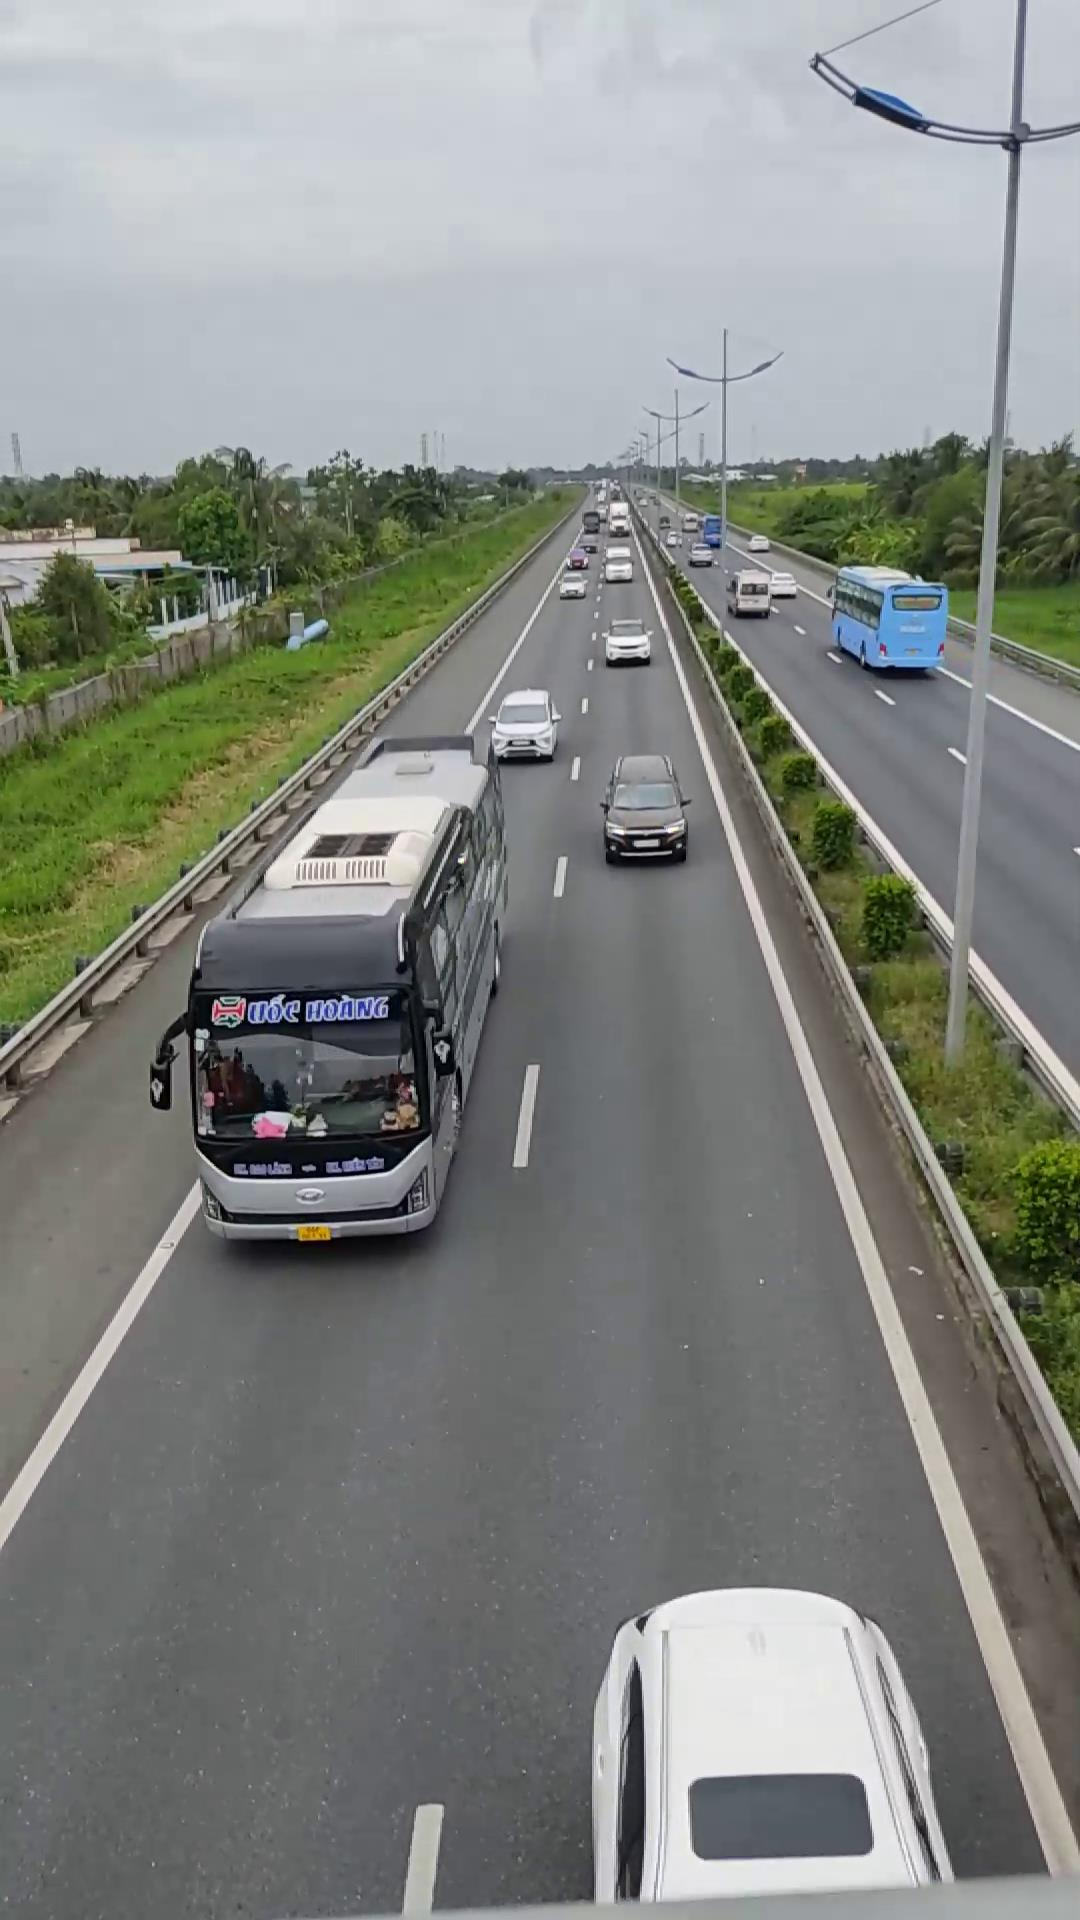bus: (167, 746, 512, 1244), (827, 563, 949, 674)
car: (579, 1584, 942, 1892), (599, 753, 692, 862), (483, 688, 560, 761)
